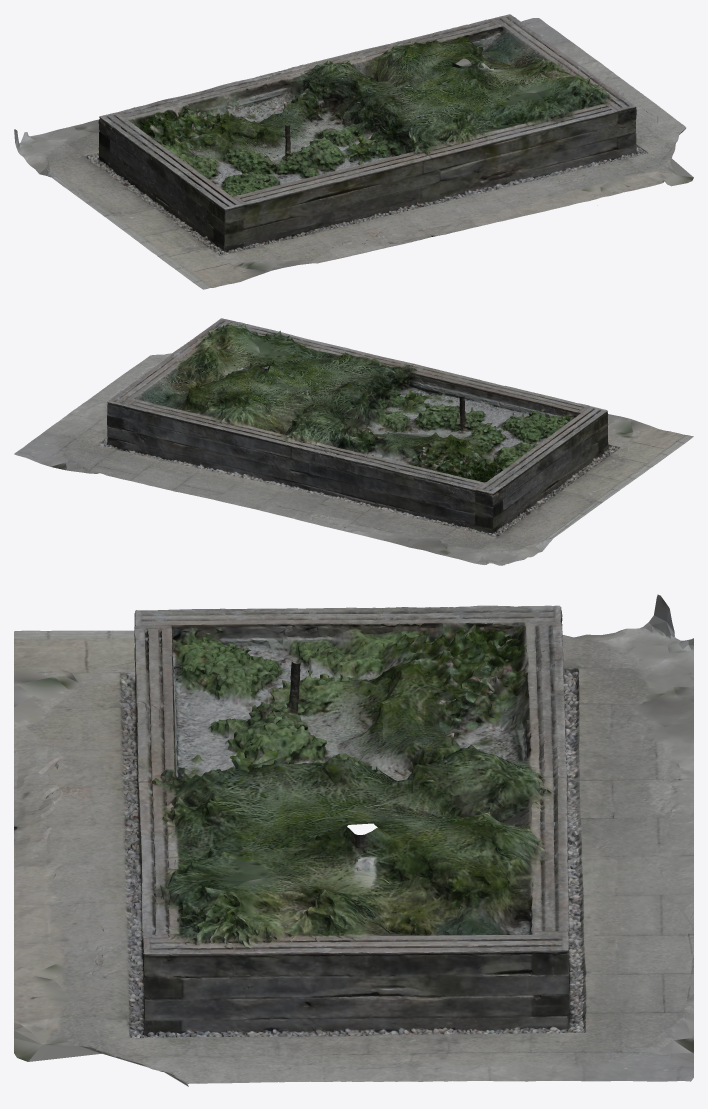
3 views of the same model, one above another, from view 1: azimuth 30°, elevation 25°; view 2: azimuth 150°, elevation 25°; view 3: azimuth 270°, elevation 25° (orthographic). The views are drawn at different scales.
Visible parts, largest first — view 1: model.obj; view 2: model.obj; view 3: model.obj.
Boxes of the visible parts, box(x1,y1,x2,y2) form: model.obj: box(14, 14, 693, 289); model.obj: box(14, 318, 693, 565); model.obj: box(14, 594, 693, 1086).
Size of the model in its own units: 0.8543 by 0.1146 by 0.5527.
Materials: 1 (1 with a texture image).
